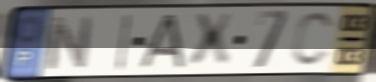7: (254, 9, 290, 73)
A: (134, 12, 188, 70)
C: (289, 9, 337, 69)
I: (114, 12, 135, 73)
N: (44, 15, 95, 72)
X: (188, 10, 236, 71)
